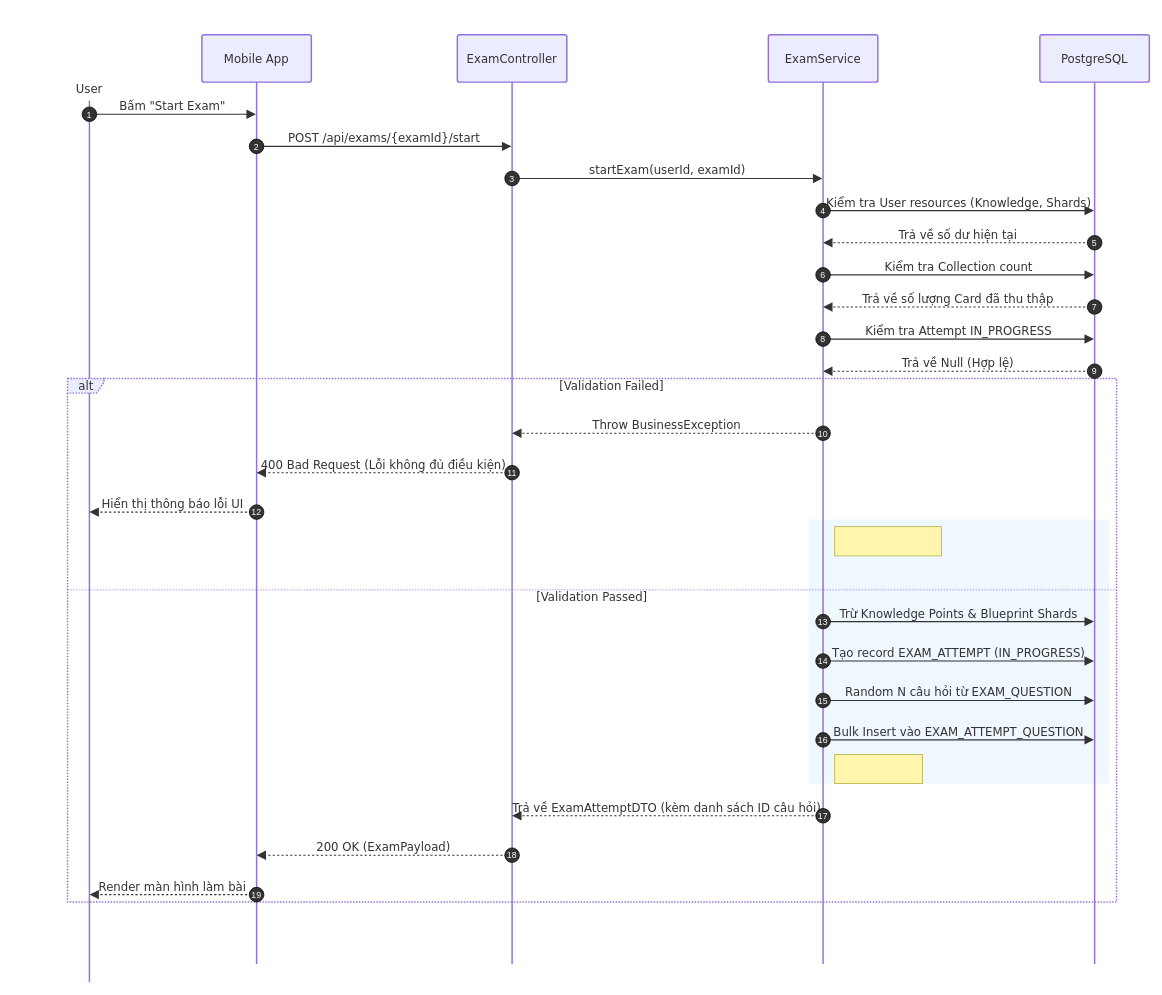
The diagram is 1162 pixels wide and 995 high, and some of its shapes have lost their labels. Here are the shapes that lost their labels. From the top down, the centre of each, then its label:
(887,541): BEGIN TRANSACTION
(878,769): COMMIT
